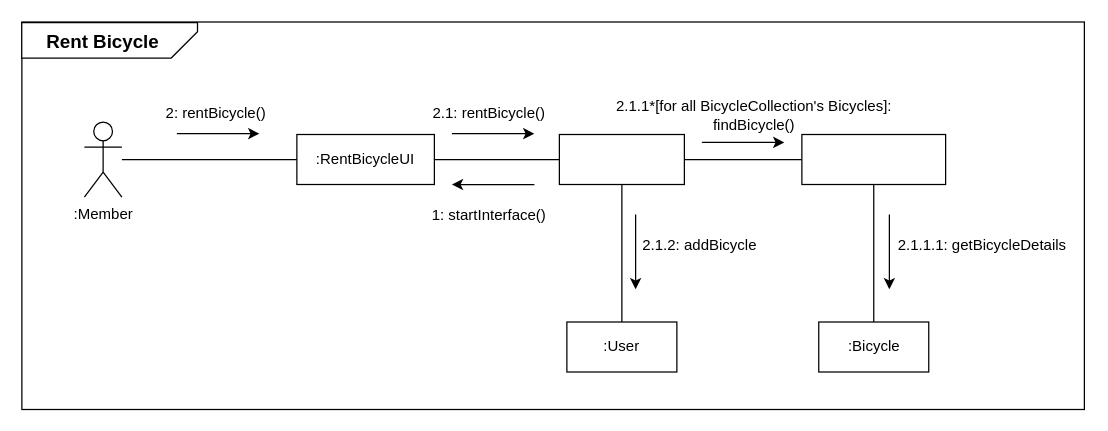
Image size: 1108x431. Some labels were removed from this diagram. Here are the shapes that lost their labels. From the top down, the centre of each, then its label:
At point 621,158: ":RentBicycle".
At point 873,158: ":BicycleCollection".
